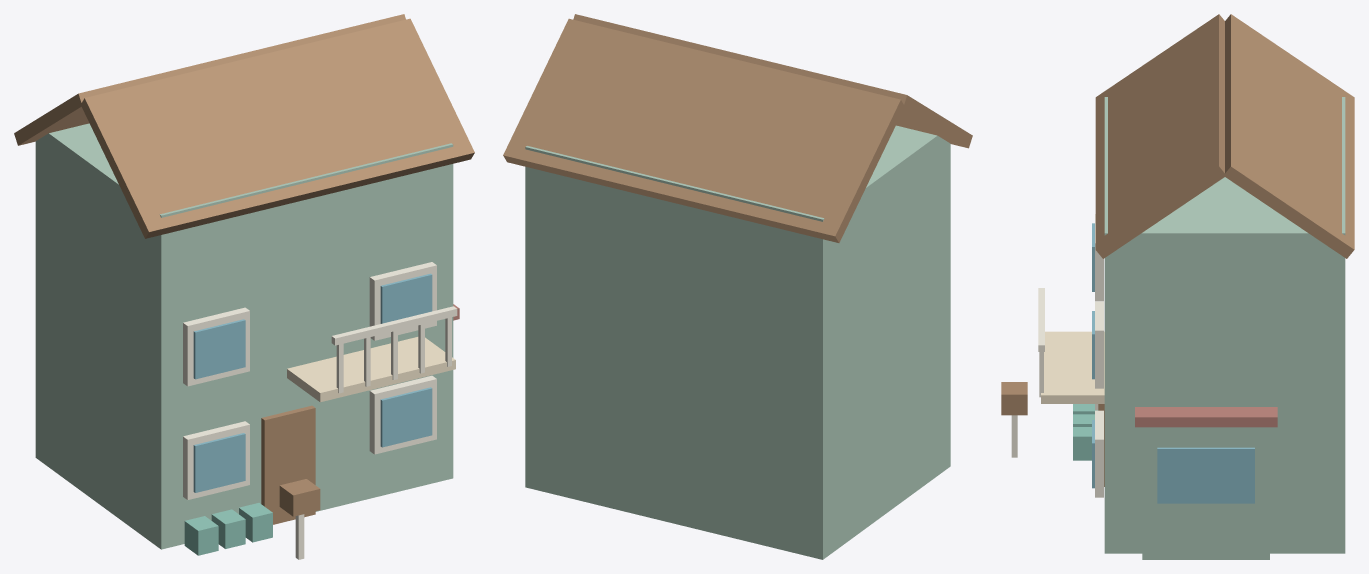
The model's file is home-05.glb.
3 views of the same model, side by side, from view 1: azimuth 30°, elevation 25°; view 2: azimuth 150°, elevation 25°; view 3: azimuth 270°, elevation 25° (orthographic). The views are drawn at different scales.
Visible parts, largest first — view 1: individual walls.004, front door.005, balcony baluster.002, bay glass, balcony deck, flower planter.004; view 2: individual walls.004, front door.005; view 3: individual walls.004, front door.005, bay glass, balcony deck, balcony baluster.002, bay cap, flower planter.004.
Part boxes in pixels (left/top/right/bottom): individual walls.004: left=35, top=123, right=453, bottom=549; front door.005: left=14, top=14, right=474, bottom=524; balcony baluster.002: left=183, top=262, right=457, bottom=559; bay glass: left=193, top=273, right=432, bottom=492; balcony deck: left=287, top=337, right=455, bottom=402; flower planter.004: left=184, top=503, right=272, bottom=555; individual walls.004: left=525, top=125, right=950, bottom=559; front door.005: left=503, top=14, right=972, bottom=242; individual walls.004: left=1104, top=97, right=1345, bottom=559; front door.005: left=1001, top=14, right=1354, bottom=486; bay glass: left=1092, top=223, right=1254, bottom=503; balcony deck: left=1041, top=331, right=1104, bottom=403; balcony baluster.002: left=1011, top=214, right=1103, bottom=497; bay cap: left=1135, top=407, right=1277, bottom=427; flower planter.004: left=1073, top=404, right=1097, bottom=460.
Bounding box in the file's own units: 4.88 × 5.8 × 4.7.
